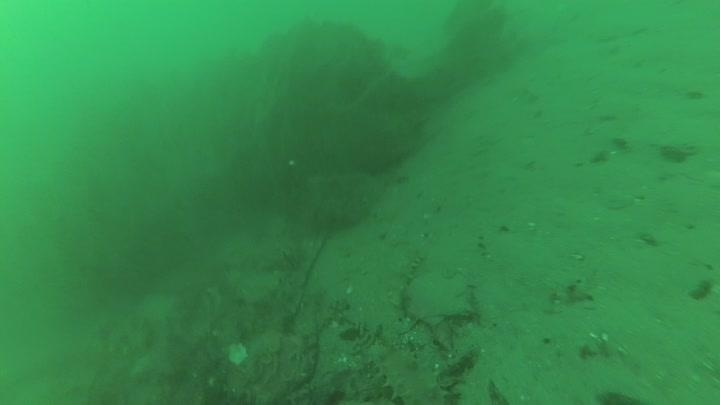holothurian: (351, 319, 447, 405), (389, 247, 427, 309)
